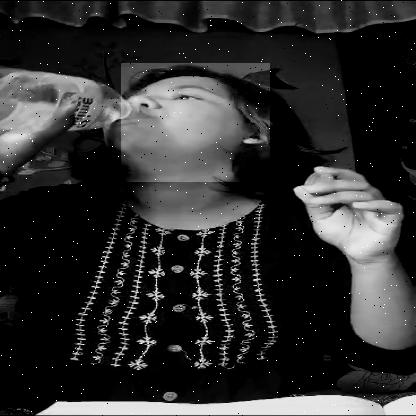Distracted: (121, 63, 270, 182)
